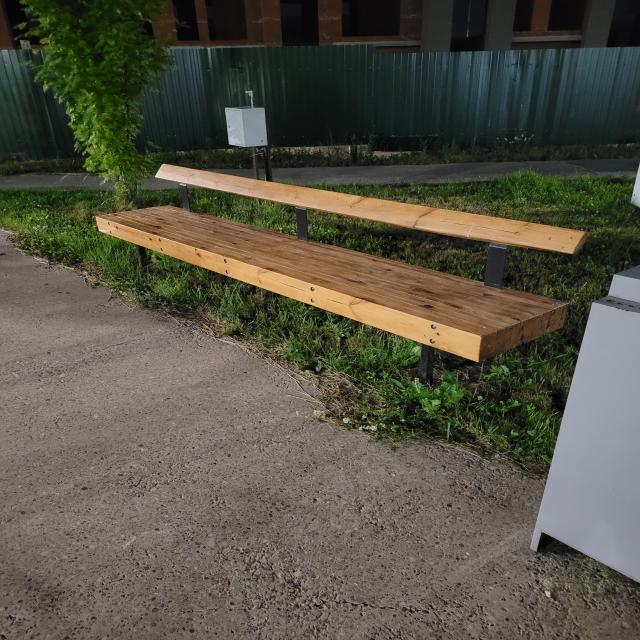Bench: (96, 164, 588, 384)
